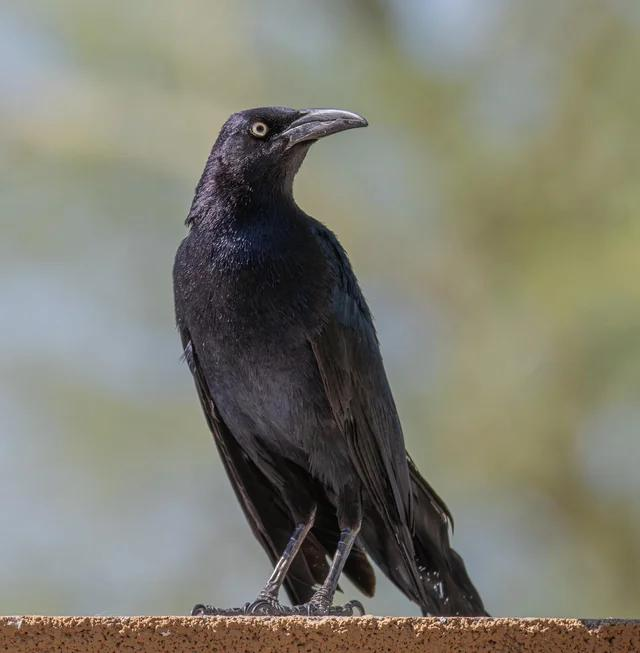grauna: (163, 105, 493, 622)
